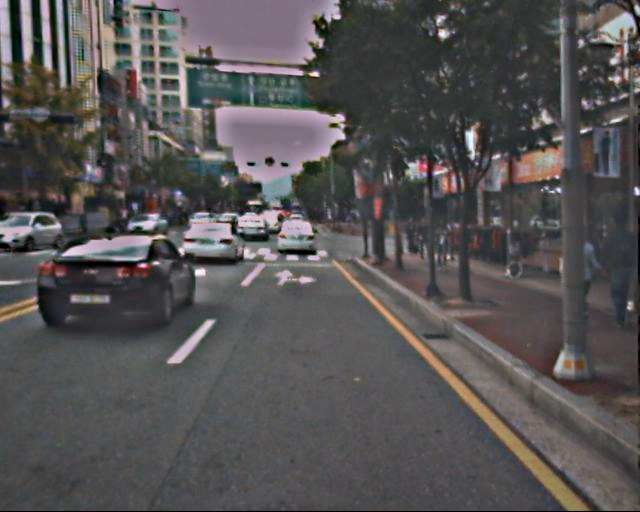person: (591, 208, 640, 328), (555, 230, 602, 325), (431, 220, 452, 272), (416, 217, 435, 263), (405, 217, 420, 254)
